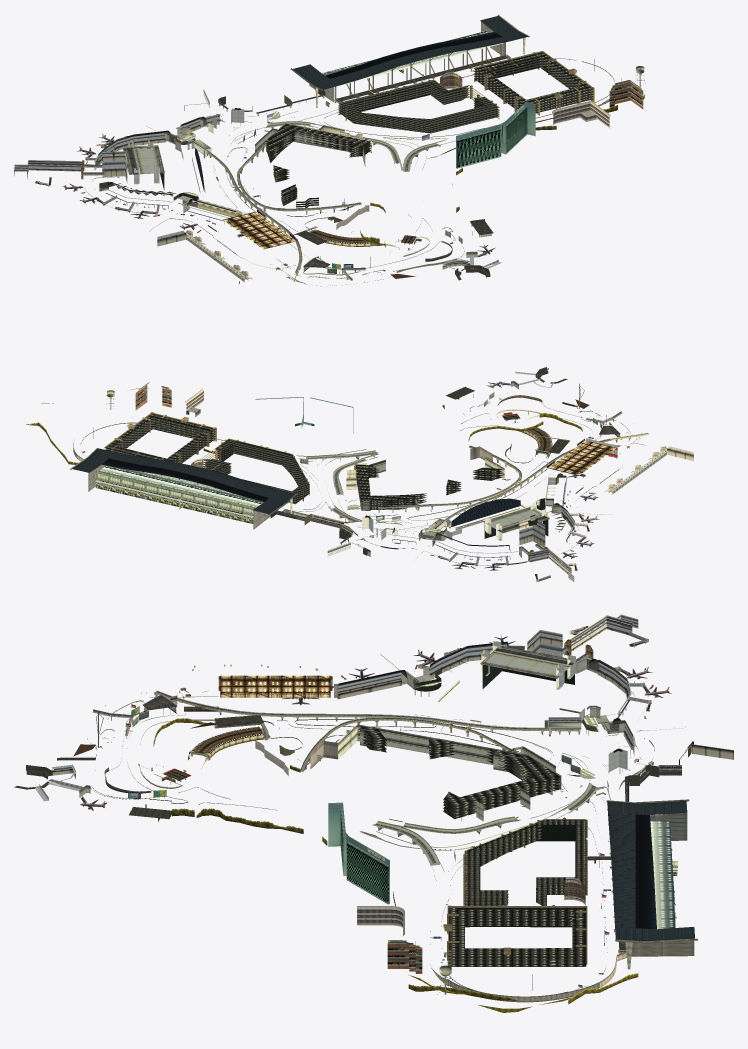
The model's file is track-B2_C1_V1.glb.
The picture shows the model from 3 angles, top to bottom: view 1: azimuth 30°, elevation 25°; view 2: azimuth 150°, elevation 25°; view 3: azimuth 270°, elevation 25°; orthographic projection. The views are drawn at different scales.
Parts seen in each view (by area): view 1: B2_C1_V1; view 2: B2_C1_V1; view 3: B2_C1_V1.
Boxes of the visible parts, <box> form: B2_C1_V1: <box>14,14,645,286</box>; B2_C1_V1: <box>26,367,693,582</box>; B2_C1_V1: <box>14,614,733,1012</box>.
Bounding box in the file's own units: 1997 × 126 × 1470.
102 materials, 102 textured.
